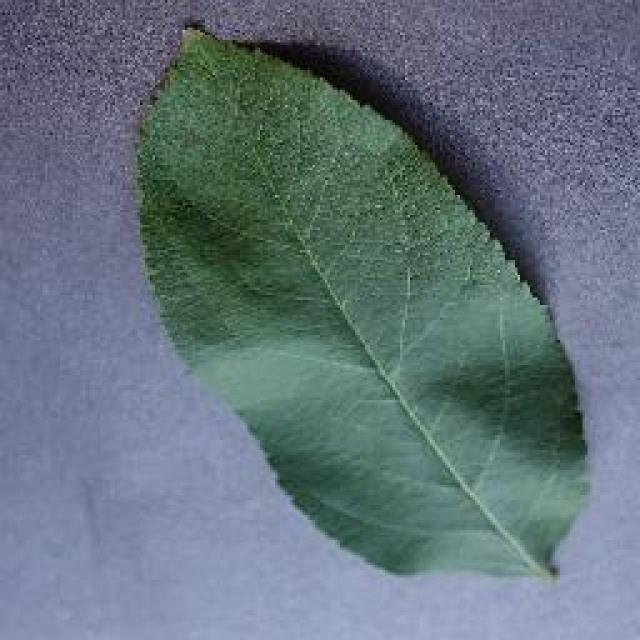apple healthy: (130, 20, 595, 580)
